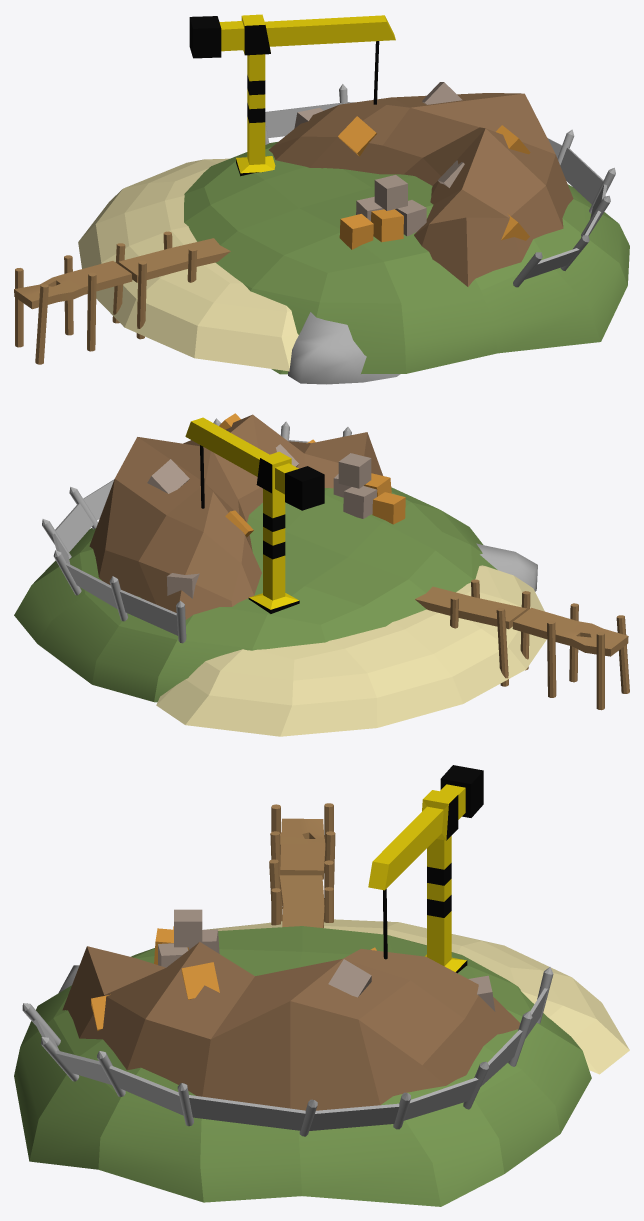
Rendered from SM_Garbage_Island.fbx.
The picture shows the model from 3 angles, top to bottom: view 1: azimuth 30°, elevation 25°; view 2: azimuth 150°, elevation 25°; view 3: azimuth 270°, elevation 25°; orthographic projection. The views are drawn at different scales.
Parts seen in each view (by area): view 1: GARBAGE_ISLAND; view 2: GARBAGE_ISLAND; view 3: GARBAGE_ISLAND.
Boxes of the visible parts, x1,y1,x2,y2 form: GARBAGE_ISLAND: (14, 14, 629, 384); GARBAGE_ISLAND: (14, 413, 629, 736); GARBAGE_ISLAND: (14, 765, 629, 1206).
Bounding box in the file's own units: 18.33 × 7.25 × 15.
